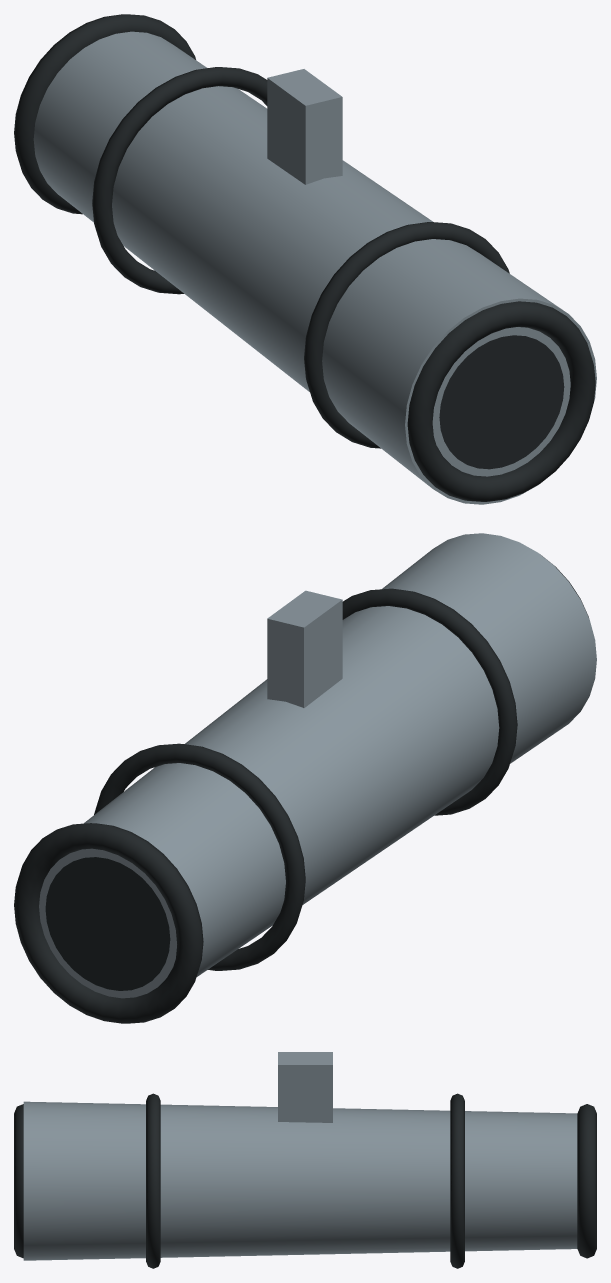
The model's file is exhaust-long.glb.
The picture shows the model from 3 angles, top to bottom: view 1: azimuth 30°, elevation 25°; view 2: azimuth 150°, elevation 25°; view 3: azimuth 270°, elevation 25°; orthographic projection. The views are drawn at different scales.
Parts seen in each view (by area): view 1: preset-exhaust-long; view 2: preset-exhaust-long; view 3: preset-exhaust-long.
Part boxes in pixels (left/top/right/bottom): preset-exhaust-long: left=14, top=14, right=596, bottom=504; preset-exhaust-long: left=14, top=533, right=596, bottom=1023; preset-exhaust-long: left=14, top=1052, right=596, bottom=1268.
Bounding box in the file's own units: 0.1433 × 0.1821 × 0.476.
